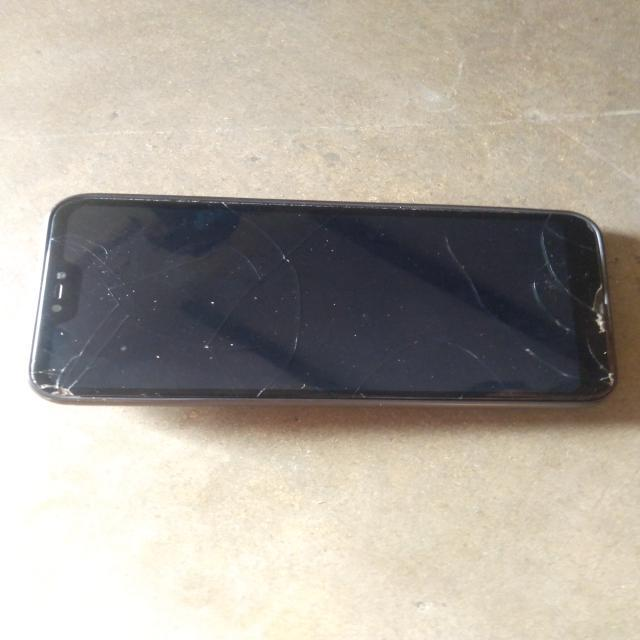screen crack: (511, 215, 632, 400), (210, 255, 335, 414), (27, 286, 164, 414)
